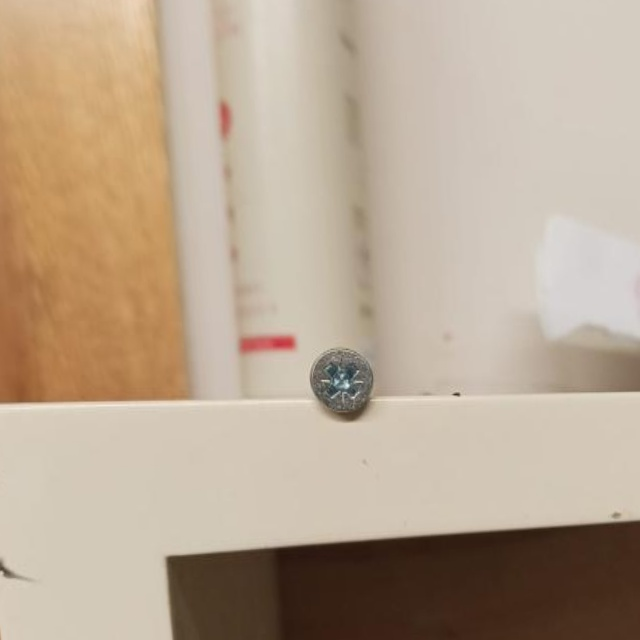pozidriv: (308, 347, 375, 415)
